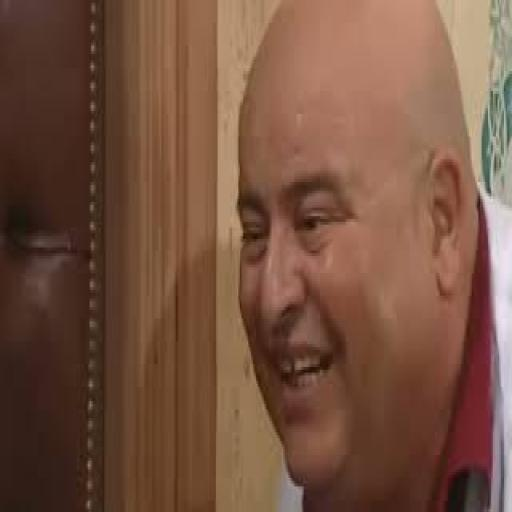sboui: (240, 6, 464, 469)
